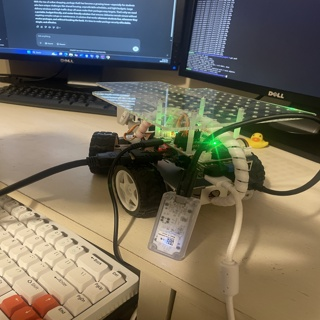vehicle: (92, 77, 306, 211)
